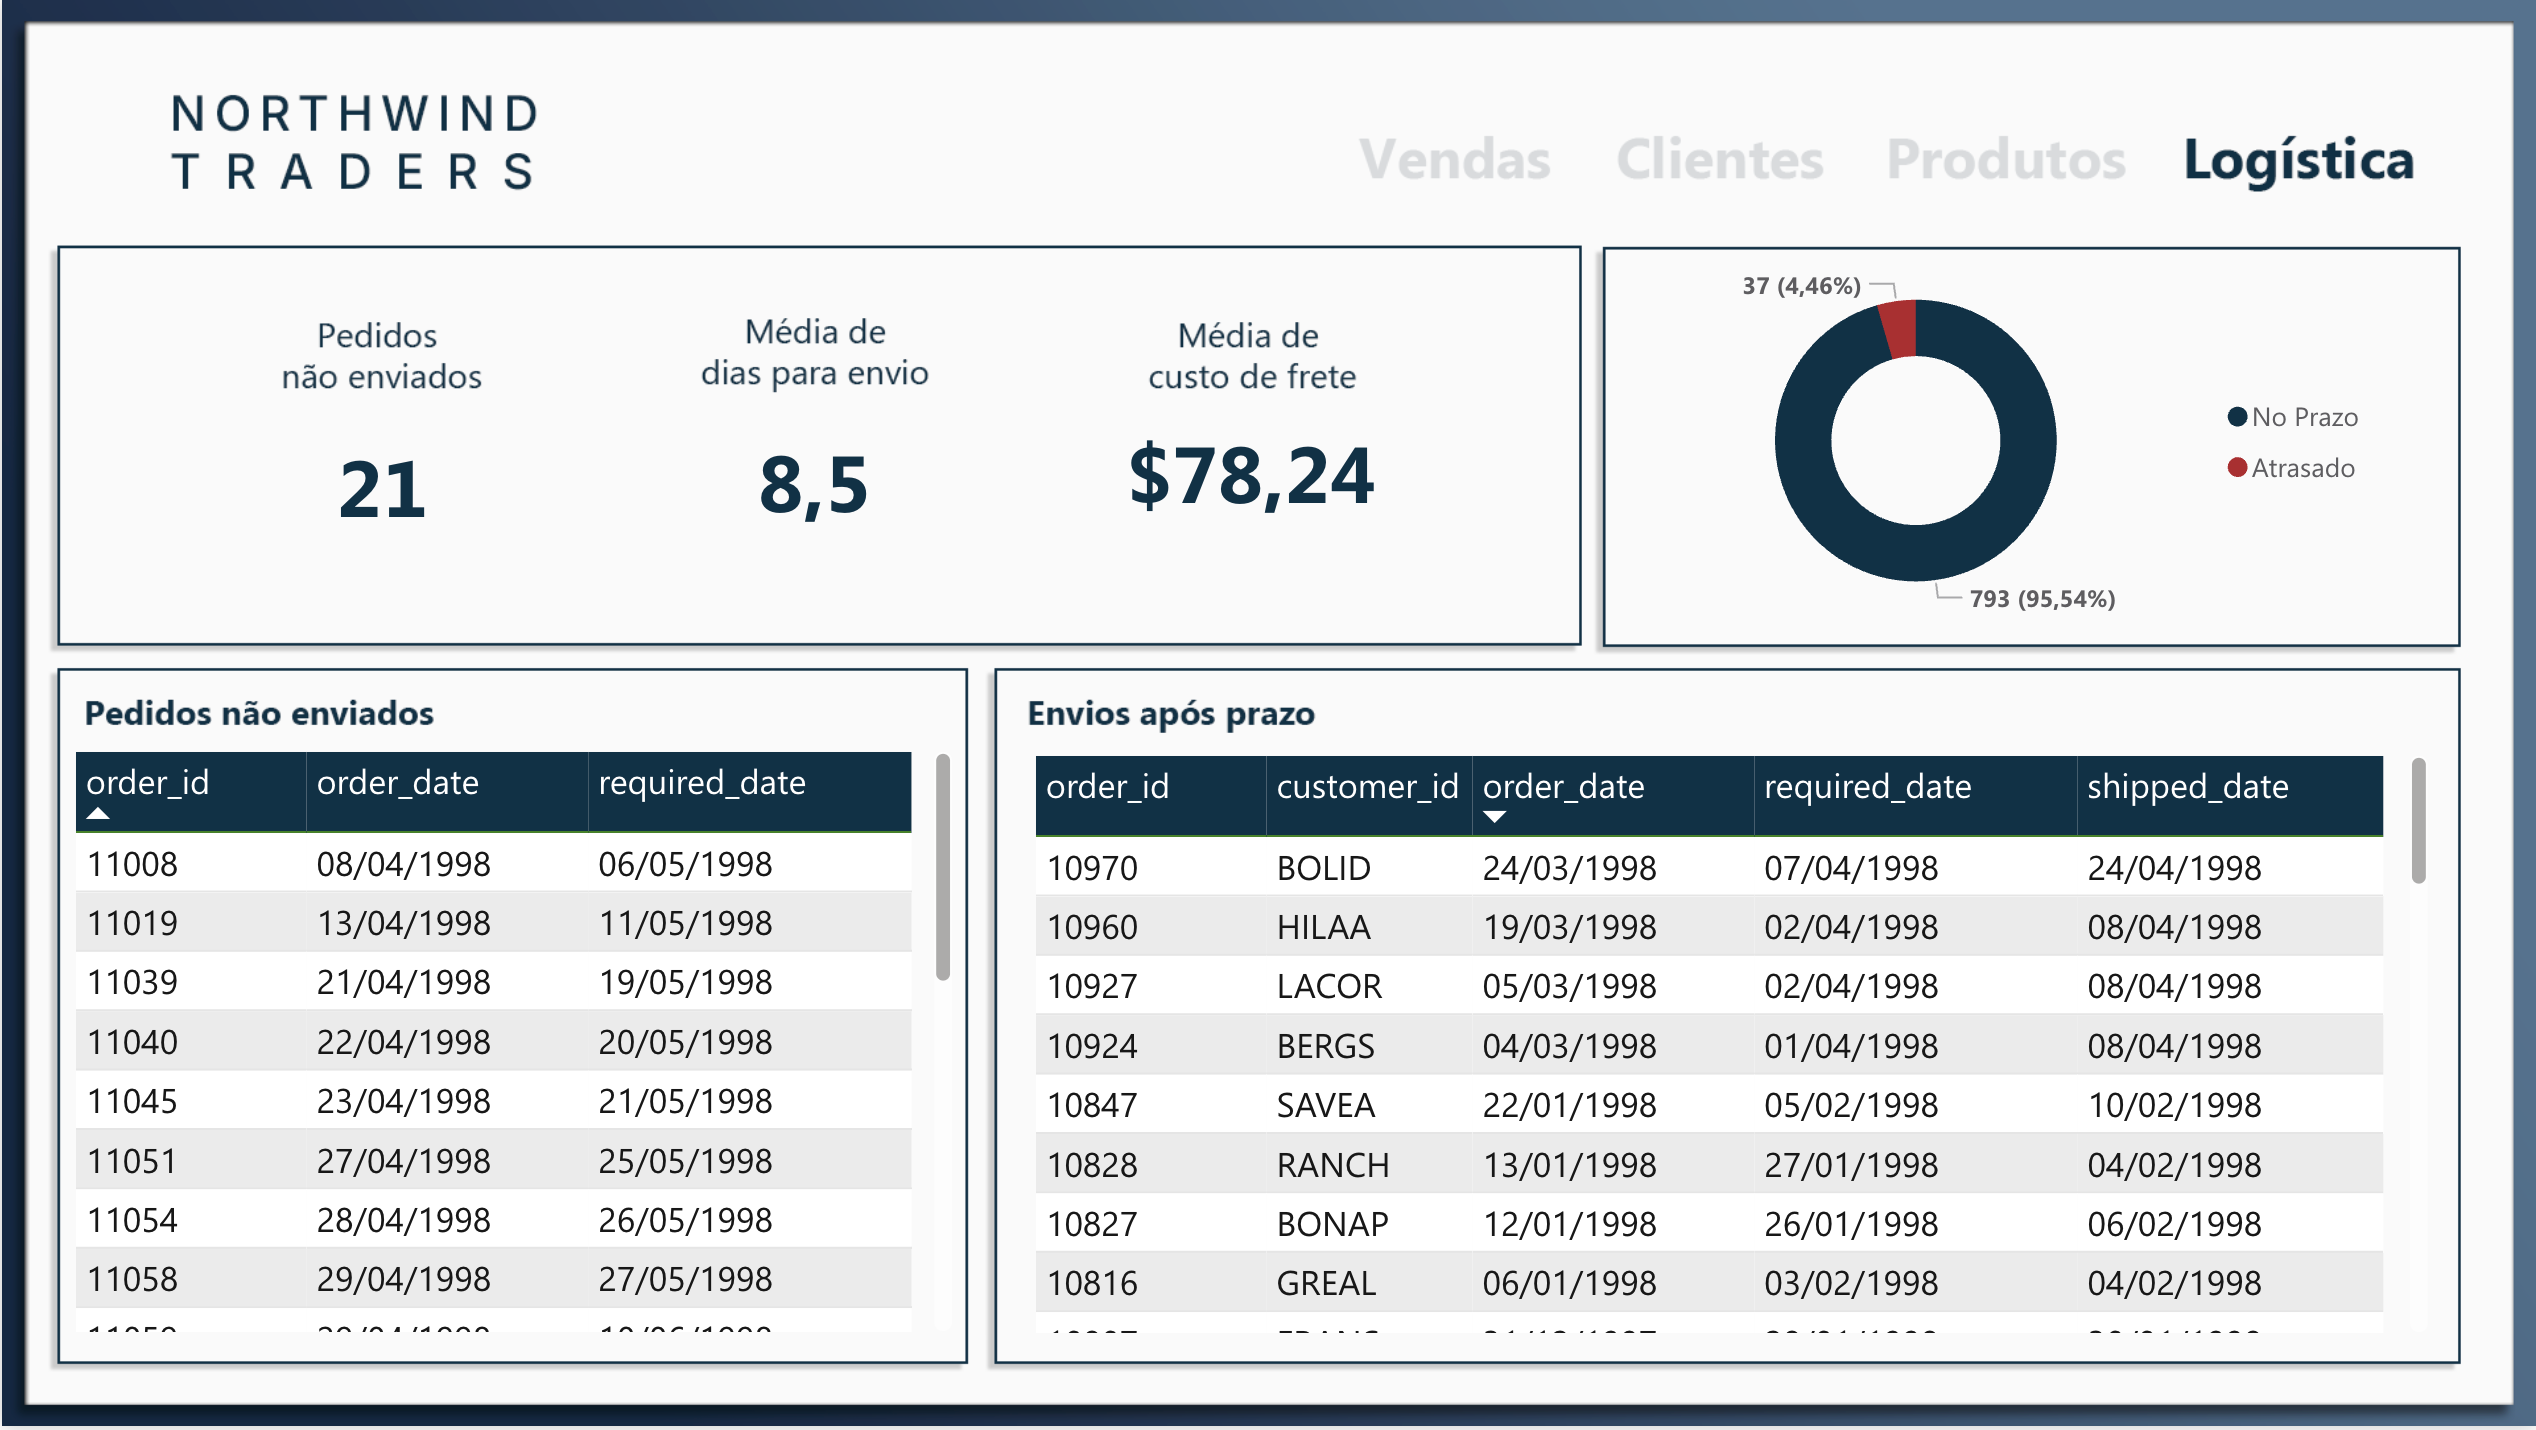

Layout of this report page (visuals, bound fields, positions):
{"tool":"powerbi","page":{"name":"Logística","canvas":[1280,720],"ordinal":7},"visuals":[{"type":"tableEx","fields":{"Values":["orders.order_id","orders.order_date","orders.required_date"]},"box":[31.1,374.9,453.4,302.3],"z":0},{"type":"card","fields":{"Values":["Count(order_details.order_id)"]},"box":[101.1,215.6,182.2,60],"z":1000},{"type":"card","fields":{"Values":["Medidas.Media_Dias_Para_Envio"]},"box":[336.7,208.9,147.8,66.7],"z":2000},{"type":"card","fields":{"Values":["Avg(orders.freight)"]},"box":[546.7,201.1,168.9,74.4],"z":3000},{"type":"donutChart","fields":{"Category":["orders.Status_Envio"],"Y":["CountNonNull(orders.order_id)"]},"box":[804.6,123,400.1,198.6],"z":4000},{"type":"tableEx","fields":{"Values":["orders.order_id","orders.customer_id","orders.order_date","orders.required_date","orders.shipped_date"]},"box":[515.7,376.4,714.2,300.8],"z":5000},{"type":"actionButton","box":[804.6,53.4,137.8,57.8],"z":6000},{"type":"actionButton","box":[666.8,53.4,137.8,57.8],"z":6001},{"type":"actionButton","box":[942.4,53.4,137.8,57.8],"z":6002}]}

Visuals, with their boxes in screenshot pixels (x1, y1, x2, y2), scaled from the page's 1280x720 canvas onto the 2536x1430 screenshot:
tableEx - orders.order_id x orders.order_date: (left=62, top=745, right=960, bottom=1345)
card - Count(order_details.order_id): (left=200, top=428, right=561, bottom=547)
card - Medidas.Media_Dias_Para_Envio: (left=667, top=415, right=960, bottom=547)
card - Avg(orders.freight): (left=1083, top=399, right=1418, bottom=547)
donutChart - orders.Status_Envio x CountNonNull(orders.order_id): (left=1594, top=244, right=2387, bottom=639)
tableEx - orders.order_id x orders.customer_id: (left=1022, top=748, right=2437, bottom=1345)
actionButton: (left=1594, top=106, right=1867, bottom=221)
actionButton: (left=1321, top=106, right=1594, bottom=221)
actionButton: (left=1867, top=106, right=2140, bottom=221)
